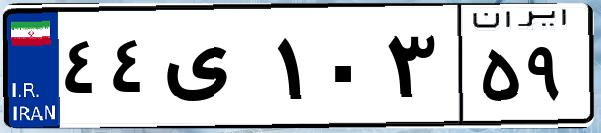0: (330, 28, 385, 110)
1: (270, 28, 330, 110)
3: (385, 28, 445, 110)
4: (57, 26, 110, 100), (110, 28, 158, 98)
5: (475, 38, 525, 113)
9: (525, 38, 570, 115)
ی: (158, 20, 270, 120)
